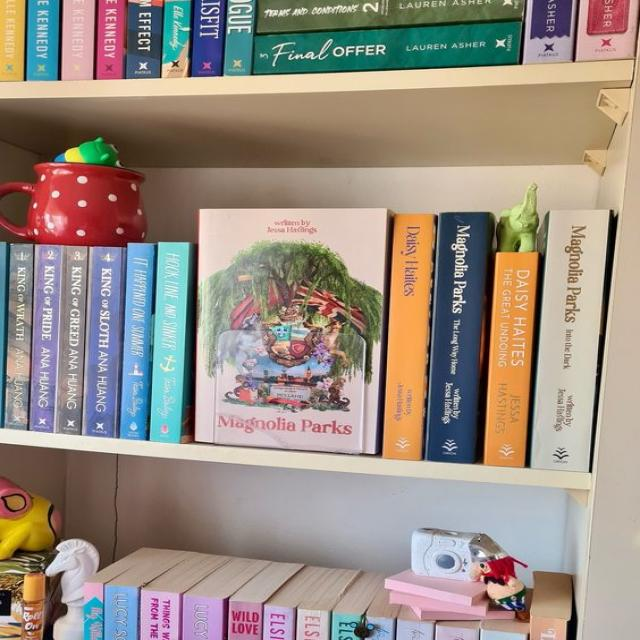book: (529, 211, 609, 472), (423, 212, 494, 463), (254, 22, 520, 74), (381, 214, 435, 460), (482, 252, 539, 467), (149, 242, 195, 443), (259, 1, 523, 32), (82, 248, 125, 438), (118, 243, 155, 439), (3, 244, 32, 429), (32, 244, 55, 430), (575, 0, 638, 61), (62, 247, 82, 432), (523, 0, 576, 64), (188, 0, 226, 75), (125, 0, 162, 77), (25, 0, 59, 80), (61, 0, 94, 79), (140, 580, 182, 639), (222, 0, 255, 74), (95, 0, 126, 78), (161, 0, 190, 77), (0, 0, 25, 81), (103, 585, 138, 639), (183, 594, 225, 638), (227, 599, 261, 640), (296, 608, 333, 640), (264, 605, 296, 640), (84, 583, 103, 639), (330, 614, 360, 640), (395, 621, 435, 640), (363, 616, 392, 640), (436, 627, 476, 640)
camera: (411, 527, 506, 581)
figurine: (497, 183, 539, 251)
